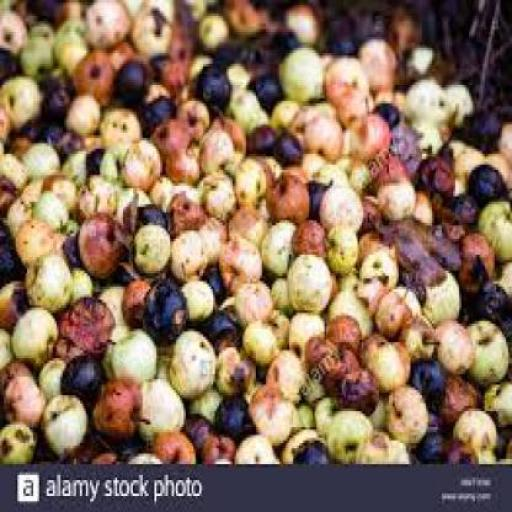biodegradable: (0, 0, 511, 463), (381, 217, 460, 284), (166, 324, 213, 395), (90, 374, 143, 435), (136, 374, 186, 438), (76, 209, 123, 276), (57, 297, 113, 353), (284, 249, 330, 313), (273, 42, 325, 98), (246, 382, 293, 443), (142, 276, 184, 344), (464, 318, 506, 385), (42, 390, 84, 457), (127, 0, 175, 57), (213, 336, 258, 396), (416, 257, 458, 321), (58, 350, 106, 406), (105, 324, 158, 374), (22, 252, 70, 306), (12, 302, 57, 359), (384, 382, 426, 443), (300, 96, 342, 156), (215, 230, 258, 287), (364, 337, 410, 390), (457, 225, 493, 292), (324, 284, 374, 332), (264, 164, 311, 215), (353, 31, 395, 88), (82, 0, 133, 46), (324, 409, 370, 459), (115, 138, 161, 186), (0, 71, 39, 127), (14, 215, 62, 260), (342, 112, 387, 160), (436, 371, 478, 422), (2, 374, 44, 425), (322, 56, 366, 104), (316, 178, 360, 226), (72, 48, 114, 98), (477, 197, 510, 260), (404, 71, 444, 122), (408, 350, 450, 398), (95, 284, 131, 340), (258, 218, 295, 271), (371, 175, 414, 220), (336, 366, 378, 412), (468, 276, 510, 321), (210, 393, 252, 438), (17, 138, 59, 183), (432, 318, 471, 366), (238, 318, 278, 364), (133, 220, 169, 271), (416, 146, 454, 194), (352, 430, 409, 462), (396, 310, 438, 353), (372, 287, 408, 337), (320, 6, 356, 56), (223, 204, 268, 244), (142, 425, 194, 459), (283, 308, 325, 350), (112, 56, 148, 104), (366, 148, 408, 189), (342, 369, 384, 409), (113, 183, 150, 228), (42, 66, 74, 117), (230, 151, 262, 202), (356, 239, 392, 284), (78, 170, 114, 215), (387, 2, 422, 48), (266, 347, 305, 388), (53, 13, 86, 61), (195, 125, 231, 169), (196, 172, 232, 216), (150, 116, 188, 157), (0, 419, 36, 462), (178, 411, 211, 457), (183, 382, 219, 424), (40, 170, 76, 212), (166, 186, 202, 228), (178, 270, 213, 313), (324, 223, 354, 273), (119, 276, 149, 326), (168, 228, 201, 273), (196, 58, 229, 103), (453, 408, 492, 446), (457, 103, 494, 143), (60, 87, 96, 128), (232, 430, 278, 462), (32, 185, 64, 231), (220, 0, 266, 32), (233, 278, 267, 321), (478, 377, 510, 422), (0, 5, 30, 53), (195, 430, 237, 464), (0, 222, 23, 284), (391, 120, 420, 168), (289, 218, 326, 255), (17, 32, 49, 74), (177, 93, 209, 135), (284, 0, 315, 43), (200, 212, 226, 263), (100, 104, 136, 140), (260, 304, 289, 348), (463, 160, 498, 196), (278, 424, 320, 454), (140, 95, 176, 130), (446, 77, 472, 125), (39, 122, 82, 151), (443, 138, 479, 172), (336, 85, 369, 122), (211, 109, 244, 146), (64, 430, 106, 459), (0, 275, 23, 326), (481, 151, 510, 191), (303, 334, 336, 369), (412, 427, 450, 457), (164, 144, 195, 180), (198, 212, 224, 254), (60, 212, 80, 266), (310, 387, 336, 428), (38, 352, 62, 396), (293, 144, 326, 176), (324, 313, 360, 342), (55, 144, 84, 180), (268, 276, 294, 316), (438, 204, 467, 239), (0, 358, 27, 395), (410, 114, 440, 146), (195, 10, 225, 42), (248, 69, 278, 101), (0, 152, 26, 188), (84, 146, 116, 175), (374, 82, 406, 111), (270, 128, 299, 160), (286, 103, 312, 138), (156, 61, 187, 90), (4, 191, 30, 225), (312, 154, 344, 181), (305, 178, 328, 215), (102, 37, 131, 66), (207, 308, 236, 337), (111, 432, 141, 459), (20, 172, 43, 207), (354, 225, 377, 260), (131, 199, 164, 223), (449, 185, 475, 215), (226, 86, 256, 112), (244, 120, 274, 146), (291, 438, 328, 459), (0, 172, 18, 215), (148, 175, 172, 207), (203, 262, 223, 300), (372, 101, 398, 130), (234, 103, 264, 128), (434, 114, 456, 146), (270, 98, 296, 125), (442, 438, 475, 459), (222, 56, 248, 82), (271, 26, 295, 54), (356, 329, 375, 364), (338, 342, 357, 377), (323, 366, 342, 401), (370, 392, 386, 433), (406, 189, 428, 217), (430, 183, 448, 217), (348, 154, 366, 188), (491, 117, 510, 149), (254, 153, 278, 178), (215, 37, 237, 64), (494, 257, 510, 294), (252, 29, 272, 58), (68, 266, 90, 292), (185, 47, 204, 77), (356, 8, 382, 29), (488, 313, 510, 337), (291, 398, 313, 422), (29, 438, 53, 459), (141, 77, 168, 95), (0, 326, 12, 366), (27, 0, 57, 16), (154, 345, 168, 379), (127, 448, 160, 462), (29, 16, 53, 34), (234, 34, 252, 58), (0, 105, 12, 140), (497, 427, 510, 459), (90, 446, 116, 462), (56, 0, 82, 14), (8, 132, 30, 146), (426, 400, 439, 422), (178, 0, 204, 11), (22, 122, 41, 133), (0, 0, 22, 9), (209, 454, 229, 462), (489, 457, 492, 459)
